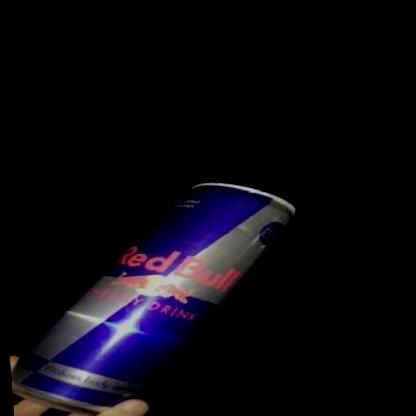alumunium_can: (0, 175, 312, 416)
